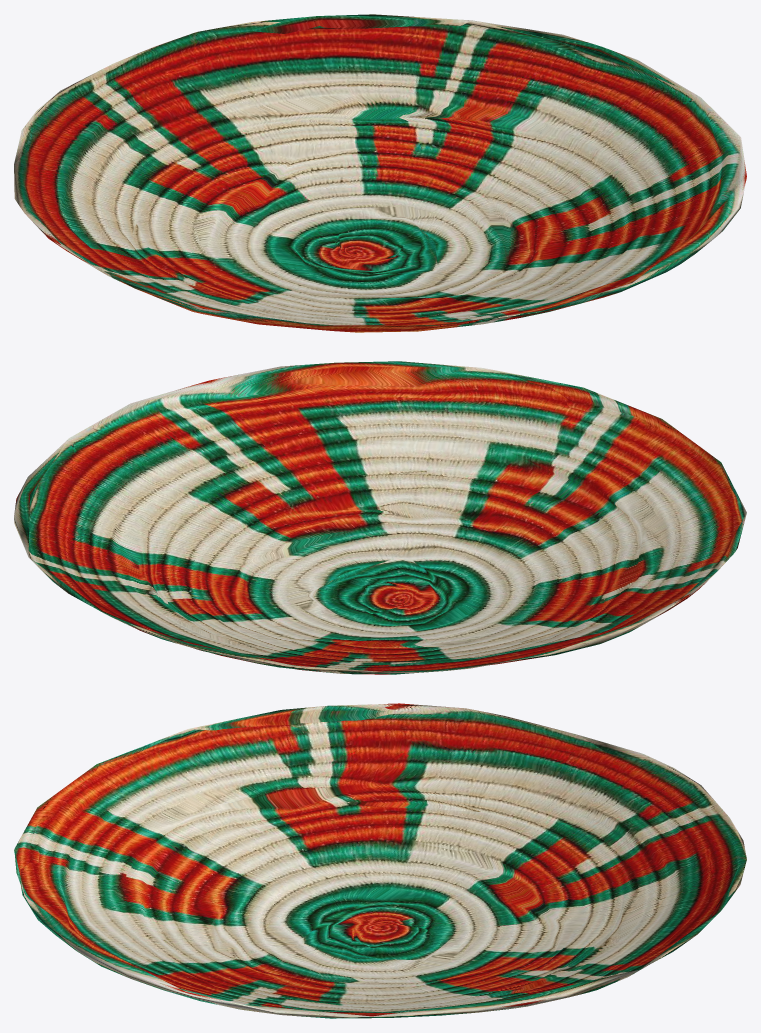
The model's file is sefed-8-.004.fbx.
The picture shows the model from 3 angles, top to bottom: view 1: azimuth 30°, elevation 25°; view 2: azimuth 150°, elevation 25°; view 3: azimuth 270°, elevation 25°; orthographic projection.
Parts seen in each view (by area): view 1: sefed-8-.004; view 2: sefed-8-.004; view 3: sefed-8-.004.
Part boxes in pixels (left/top/right/bottom): sefed-8-.004: left=14, top=14, right=746, bottom=332; sefed-8-.004: left=14, top=361, right=746, bottom=674; sefed-8-.004: left=14, top=703, right=746, bottom=1018.
Bounding box in the file's own units: 37.68 × 4.9 × 37.77.
Materials: 1 (1 with a texture image).
